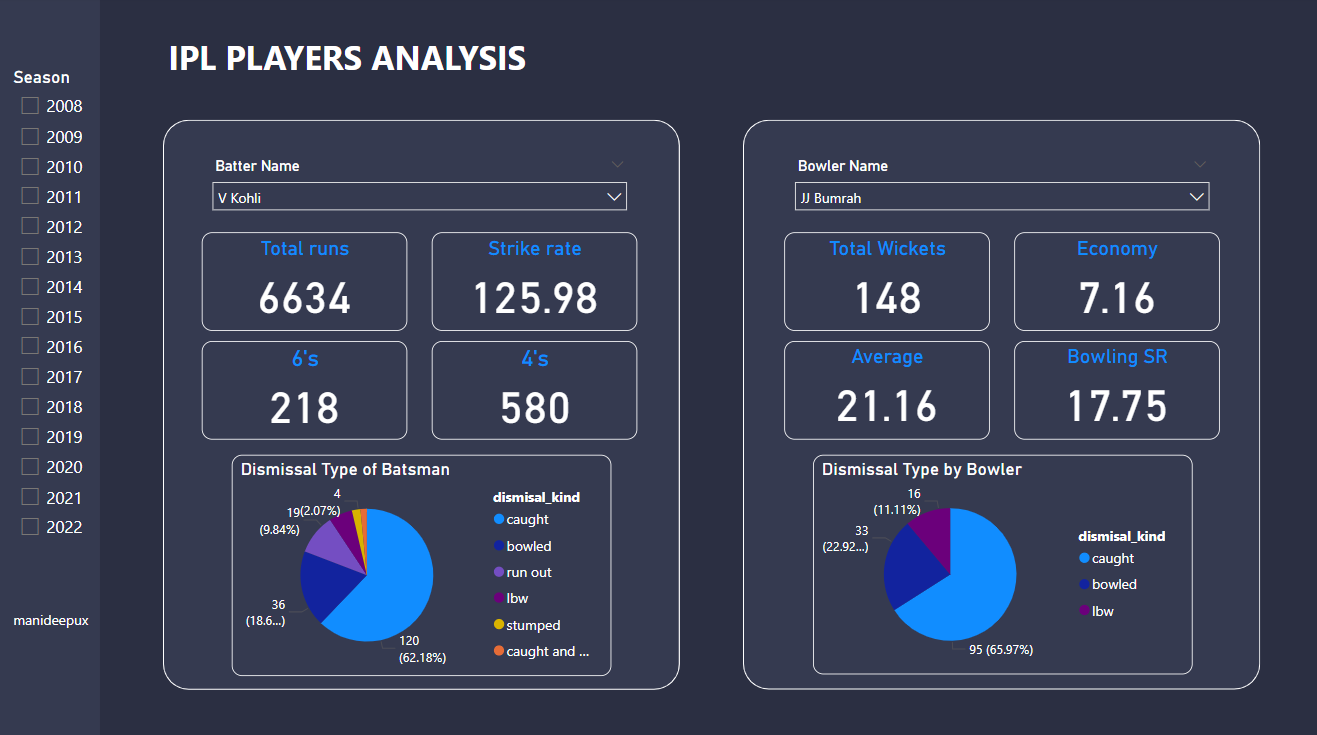

The dashboard page shown, as its layout file describes it:
{"tool":"powerbi","page":{"name":"Player Analysis","canvas":[1280,720],"ordinal":1},"visuals":[{"type":"shape","box":[0,0,98.8,720.4],"z":0},{"type":"textbox","box":[159.2,32.9,410.3,67.2],"z":1000},{"type":"slicer","title":"Season","fields":{"Values":["Calender Table.Year"]},"box":[9.6,67.2,89.2,483],"z":2000},{"type":"shape","box":[159.6,119.7,498.9,550.2],"z":3000},{"type":"shape","box":[719,119.4,499.5,550.3],"z":4000},{"type":"slicer","fields":{"Values":["ipl_ball_by_ball_2008_2022.batter"]},"box":[196.7,151.1,420.5,71.3],"z":5000},{"type":"card","title":"Total runs","fields":{"Values":["ipl_ball_by_ball_2008_2022.batsman_run"]},"box":[196.7,228.1,198.1,95.5],"z":6000},{"type":"card","title":"6''s","fields":{"Values":["ipl_ball_by_ball_2008_2022.batsman_run"]},"box":[196.7,333.5,198.1,95.5],"z":7000},{"type":"card","title":"4''s","fields":{"Values":["ipl_ball_by_ball_2008_2022.batsman_run"]},"box":[419.1,333.5,198.1,95.5],"z":8000},{"type":"card","title":"Strike rate","fields":{"Values":["ipl_ball_by_ball_2008_2022.Strike rate"]},"box":[419.1,228.1,198.1,95.5],"z":9000},{"type":"pieChart","title":"Dismissal Type of Batsman","fields":{"Category":["ipl_ball_by_ball_2008_2022.dismisal_kind"],"Y":["ipl_ball_by_ball_2008_2022.id"]},"box":[225.2,443.3,366.3,213.8],"z":10000},{"type":"slicer","fields":{"Values":["ipl_ball_by_ball_2008_2022.bowler"]},"box":[758.3,151.1,420.5,71.3],"z":11000},{"type":"card","title":"Total Wickets","fields":{"Values":["ipl_ball_by_ball_2008_2022.iswicket_delivery"]},"box":[758.3,228.1,198.1,95.5],"z":12000},{"type":"card","title":"Economy","fields":{"Values":["ipl_ball_by_ball_2008_2022.Economy"]},"box":[980.7,228.1,198.1,95.5],"z":13000},{"type":"card","title":"Average","fields":{"Values":["ipl_ball_by_ball_2008_2022.AverageOfBowler"]},"box":[758.3,333.5,198.1,95.5],"z":14000},{"type":"card","title":"Bowling SR","fields":{"Values":["ipl_ball_by_ball_2008_2022.Bowling Average"]},"box":[980.7,333.5,198.1,95.5],"z":15000},{"type":"pieChart","title":"Dismissal Type by Bowler","fields":{"Category":["ipl_ball_by_ball_2008_2022.dismisal_kind"],"Y":["ipl_ball_by_ball_2008_2022.id"]},"box":[786.8,443.3,366.3,212.4],"z":16000},{"type":"textbox","box":[9.7,587.5,101.3,57.9],"z":16001}]}

Visuals, with their boxes in screenshot pixels (x1, y1, x2, y2), scaled from the page's 1280x720 canvas onto the 1317x735 screenshot:
shape: select_region(0, 0, 102, 734)
textbox: select_region(164, 34, 586, 102)
"Season" slicer: select_region(10, 69, 102, 562)
shape: select_region(164, 122, 678, 684)
shape: select_region(740, 122, 1254, 684)
slicer - ipl_ball_by_ball_2008_2022.batter: select_region(202, 154, 635, 227)
"Total runs" card: select_region(202, 233, 406, 330)
"6''s" card: select_region(202, 340, 406, 438)
"4''s" card: select_region(431, 340, 635, 438)
"Strike rate" card: select_region(431, 233, 635, 330)
"Dismissal Type of Batsman" pieChart: select_region(232, 453, 609, 671)
slicer - ipl_ball_by_ball_2008_2022.bowler: select_region(780, 154, 1213, 227)
"Total Wickets" card: select_region(780, 233, 984, 330)
"Economy" card: select_region(1009, 233, 1213, 330)
"Average" card: select_region(780, 340, 984, 438)
"Bowling SR" card: select_region(1009, 340, 1213, 438)
"Dismissal Type by Bowler" pieChart: select_region(810, 453, 1186, 669)
textbox: select_region(10, 600, 114, 659)
